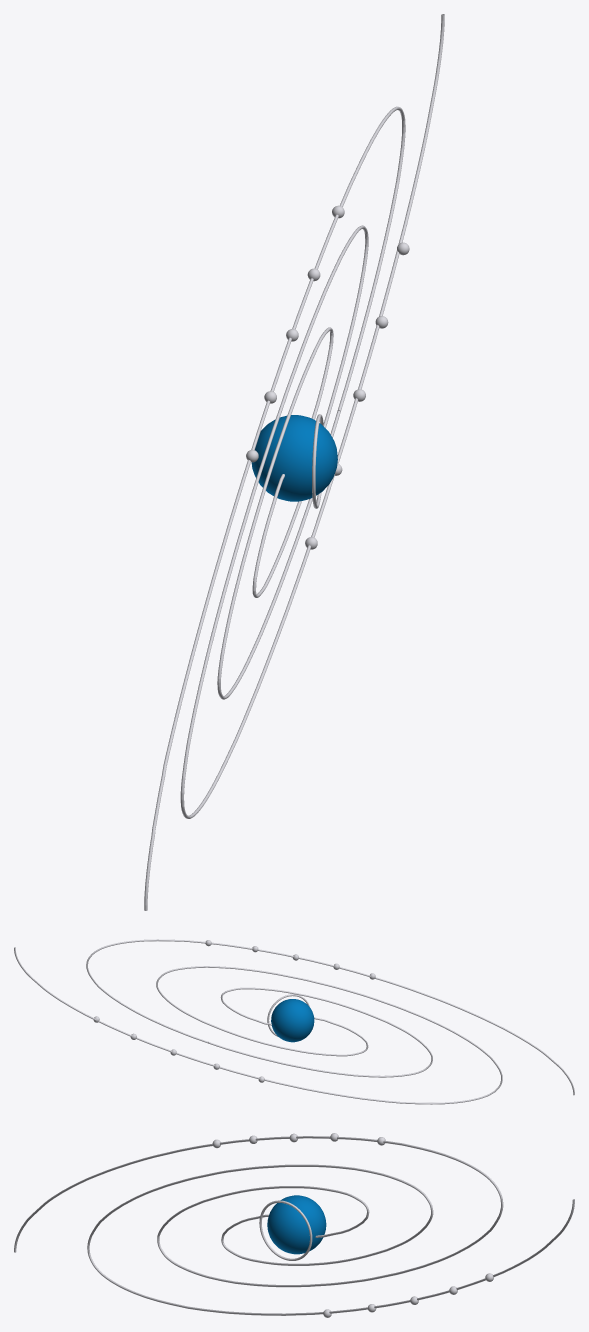
The model's file is f20noanime.glb.
3 views of the same model, one above another, from view 1: azimuth 30°, elevation 25°; view 2: azimuth 150°, elevation 25°; view 3: azimuth 270°, elevation 25° (orthographic). The views are drawn at different scales.
Visible parts, largest first — view 1: spiral, center ball; view 2: spiral, center ball; view 3: spiral, center ball, center circle.
Part boxes in pixels (<box>): spiral: <box>144,14,444,910</box>; center ball: <box>251,415,337,501</box>; spiral: <box>14,939,574,1104</box>; center ball: <box>271,999,314,1042</box>; spiral: <box>14,1136,574,1315</box>; center ball: <box>267,1195,326,1254</box>; center circle: <box>259,1200,312,1260</box>.
Bounding box in the file's own units: 4.58 × 2.6 × 4.6.
